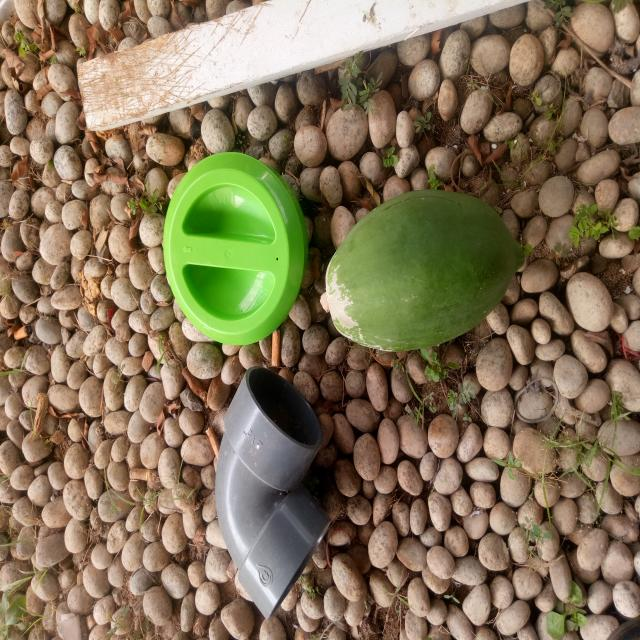Pepaya unrippen: (320, 186, 524, 364)
